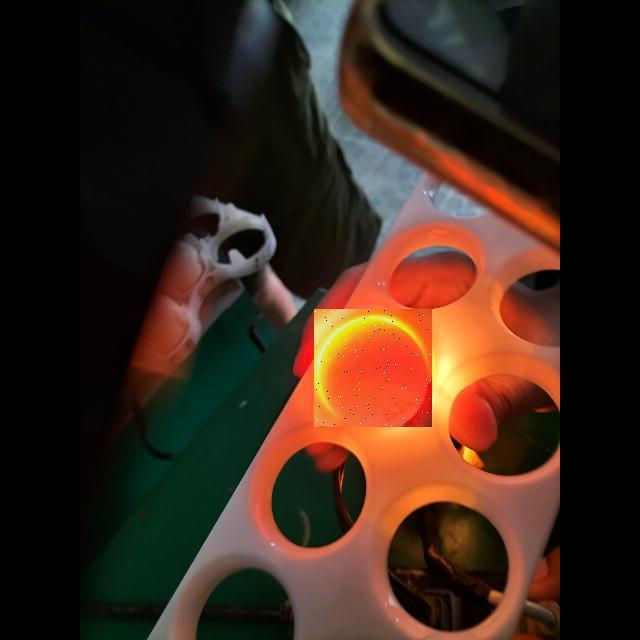Infertile: (314, 309, 432, 427)
